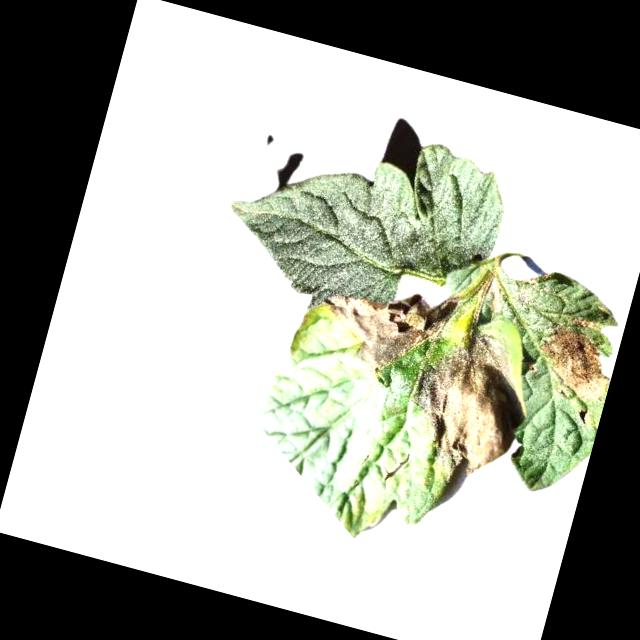Late_blight: (389, 313, 543, 495), (307, 263, 461, 390), (526, 319, 621, 408), (480, 274, 510, 317), (565, 314, 604, 334)
